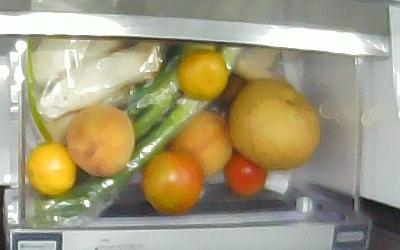peach: (67, 107, 135, 176), (167, 111, 233, 178)
pear: (227, 81, 321, 168)
tangerine: (27, 144, 77, 195), (178, 53, 228, 101)
tomato: (141, 150, 204, 214), (226, 152, 266, 194)
